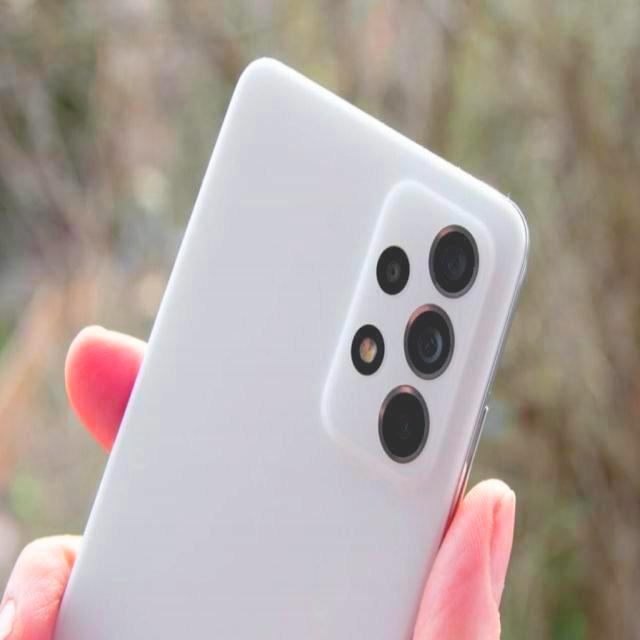lens: (342, 196, 480, 468)
phone: (50, 54, 536, 638)
